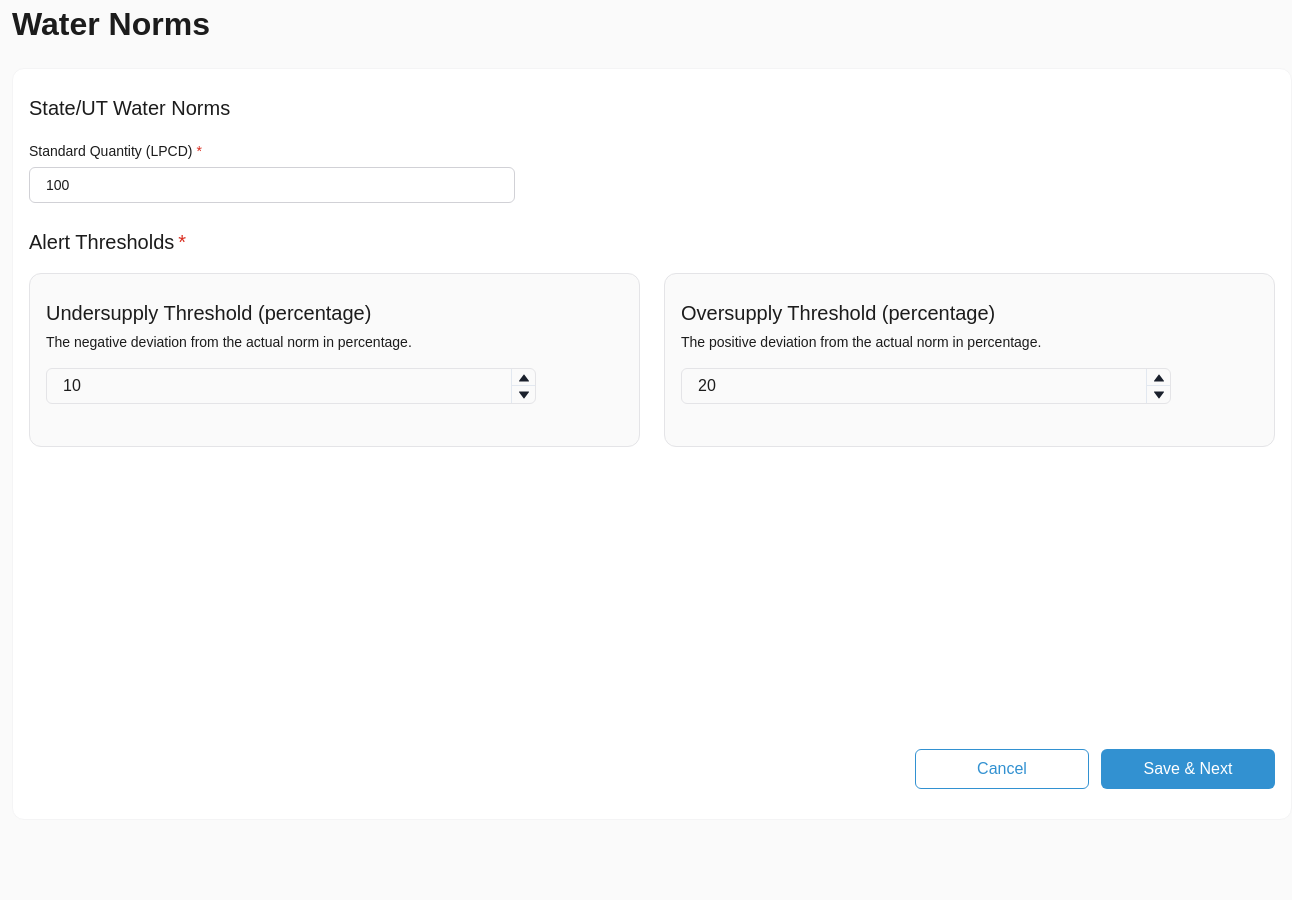
it: WaterNormsPage › shows inline error for state quantity <= 0
Replace the text in the number field labelled "Standard Quantity (LPCD)*" with "-5": x=272, y=185 x1=29 y1=167 x2=515 y2=203
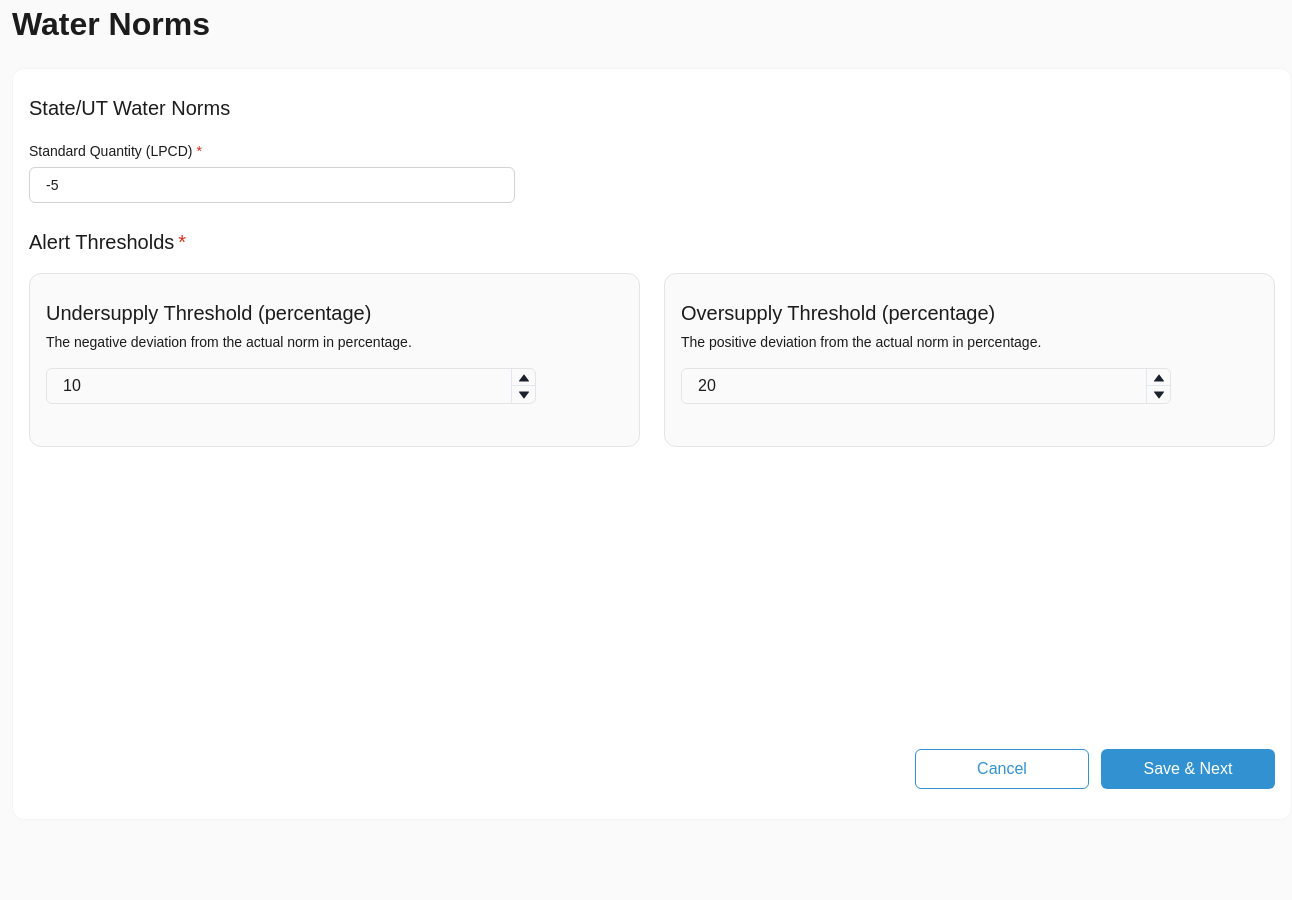
Click the button "Save & Next": x=1188, y=769 x1=1101 y1=749 x2=1275 y2=789
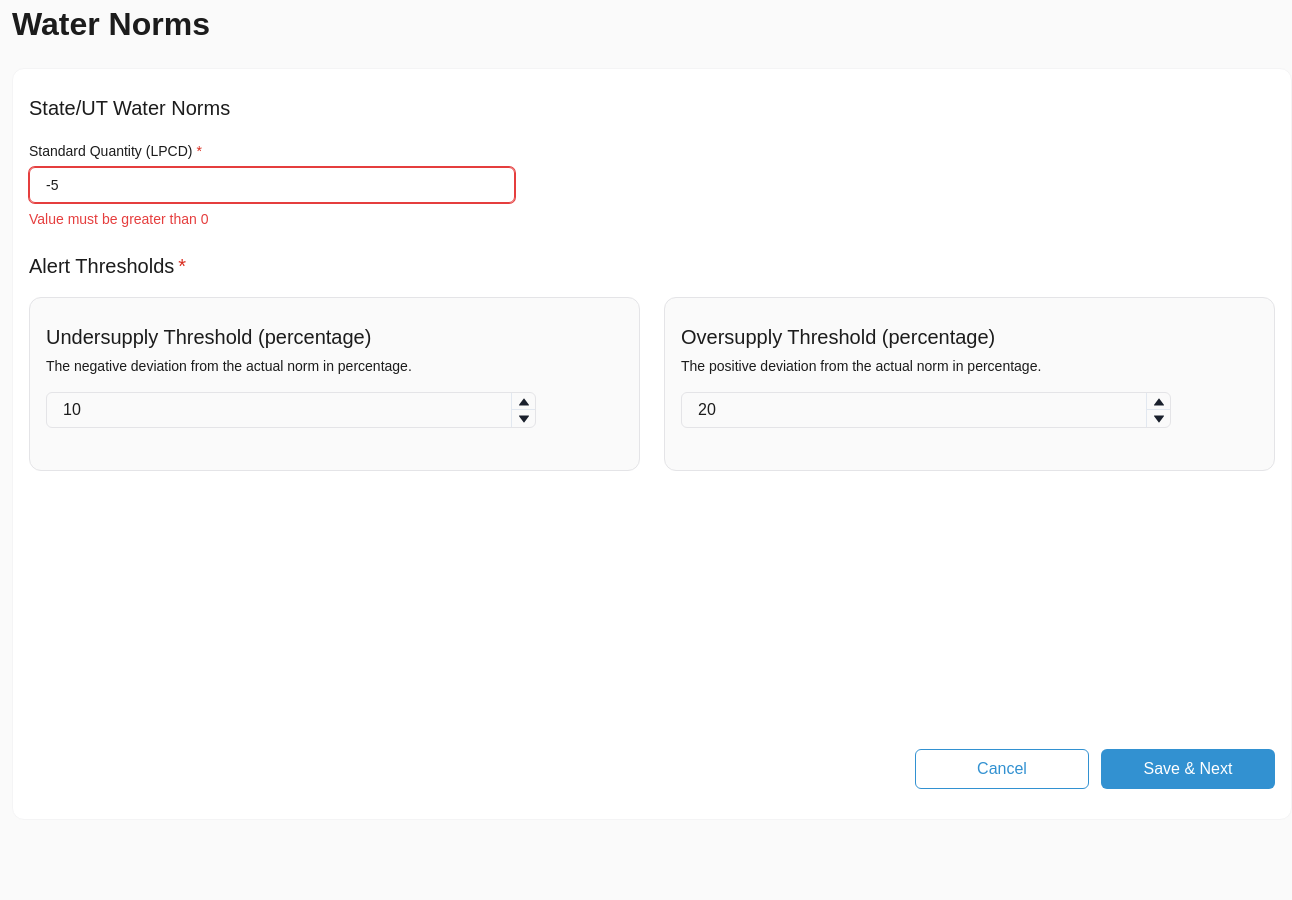
Expected: the text "Value must be greater than 0" is shown, x1=29 y1=211 x2=208 y2=227
